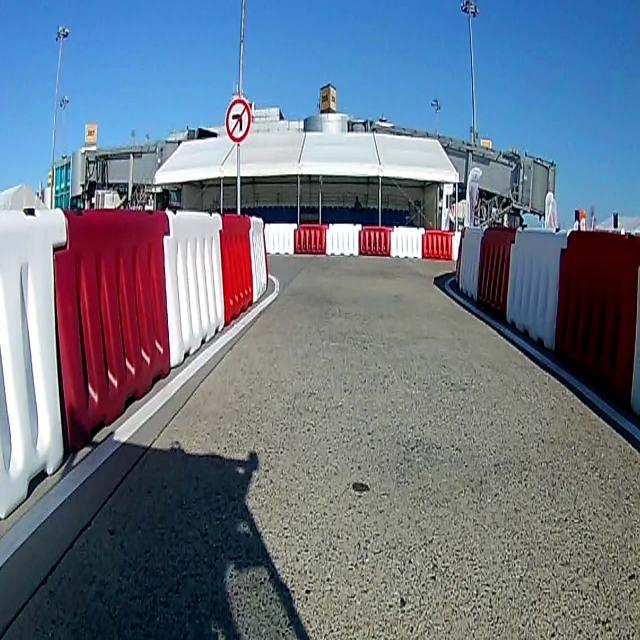soladonulmez: (228, 100, 250, 140)
